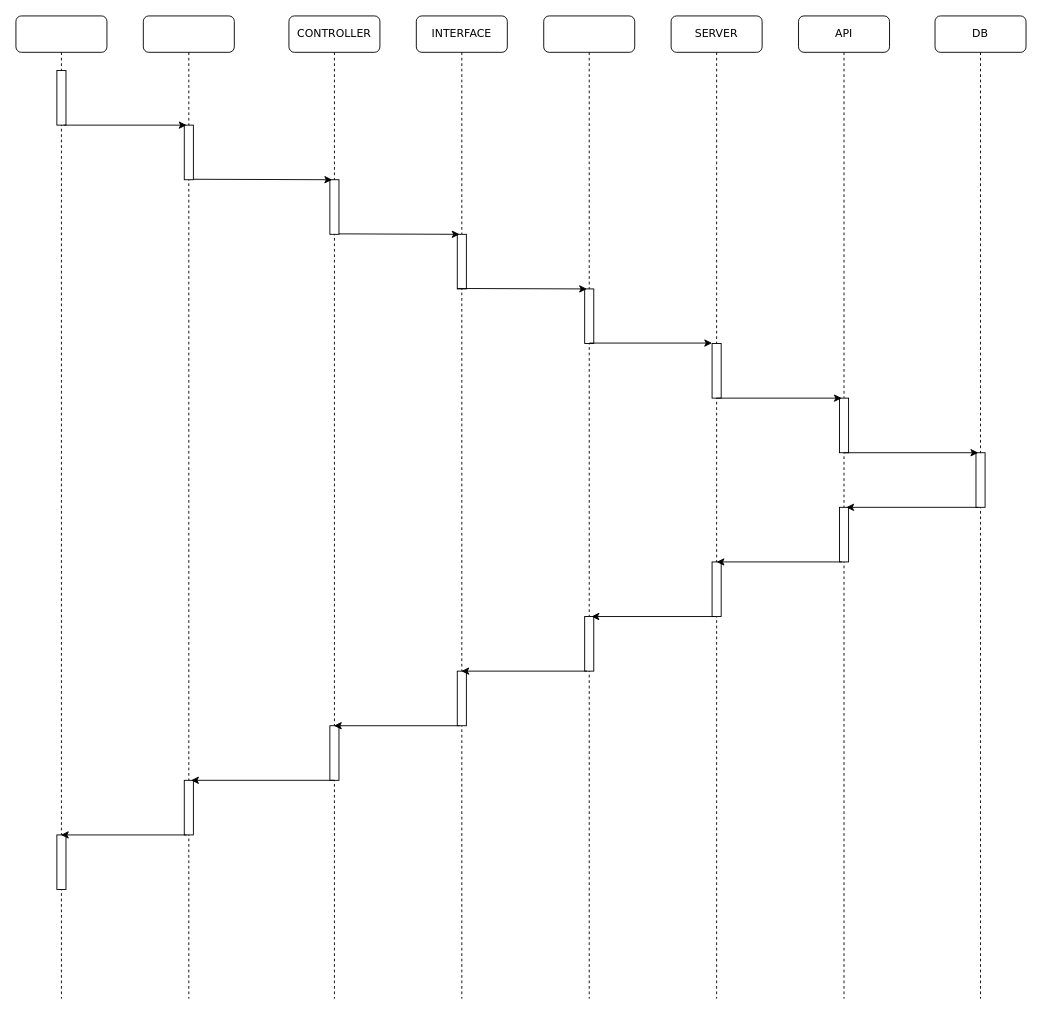
The diagram is 1042 pixels wide and 1015 high, and some of its shapes have lost their labels. Here are the shapes that lost their labels. From the top down, the box of each, then its label:
(15, 15, 107, 999): HTML
(142, 15, 234, 999): JS
(543, 15, 635, 999): REPOSITORY
